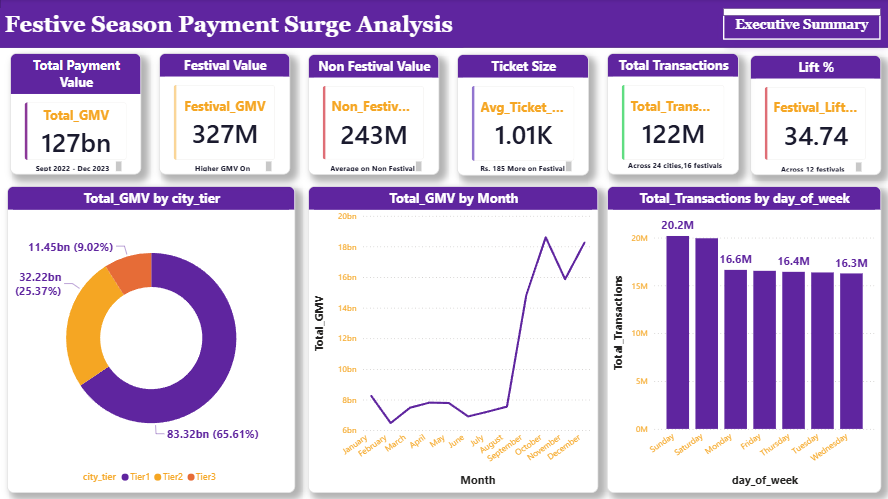

This screenshot's page, from the dashboard's own definition file:
{"tool":"powerbi","page":{"name":"Executive Summary","canvas":[1280,720],"ordinal":0},"visuals":[{"type":"group","id":"g1","title":"Group 1","box":[0,0,1280,70],"z":0},{"type":"shape","box":[0,0,1280,70],"z":0,"group":"g1"},{"type":"shape","box":[1041.1,13,227.5,11.5],"z":1000},{"type":"textbox","box":[0,13.2,667.1,56.6],"z":1000,"group":"g1"},{"type":"textbox","box":[1041.7,18.3,226.7,40],"z":2000,"group":"g1"},{"type":"cardVisual","title":"Lift %","fields":{"Data":["phonepe payments.Festival_Lift %"]},"box":[1080,80.6,188.6,172.8],"z":2000},{"type":"group","id":"g2","title":"Group 2","box":[14.4,78.3,1049.8,177.1],"z":3000,"group":"g3"},{"type":"cardVisual","title":"Non Festival Value","fields":{"Data":["phonepe payments.Non_Festival_GMV"]},"box":[443.8,80.1,188.9,173.5],"z":3000,"group":"g2"},{"type":"donutChart","fields":{"Category":["phonepe payments.city_tier"],"Y":["phonepe payments.Total_GMV"]},"box":[9.6,269.2,415.4,442.3],"z":3000},{"type":"cardVisual","title":"Festival Value","fields":{"Data":["phonepe payments.Festival_GMV"]},"box":[229.3,78.3,188.9,175.3],"z":4000,"group":"g2"},{"type":"textbox","box":[889.2,151.4,140.7,23.6],"z":4000},{"type":"textbox","box":[686.5,229.7,140.7,23.6],"z":4000,"group":"g3"},{"type":"cardVisual","title":"Total Payment Value","fields":{"Data":["phonepe payments.Total_GMV"]},"box":[14.4,78.5,189.4,175.4],"z":5000,"group":"g2"},{"type":"textbox","box":[881.9,225.8,181.7,28.8],"z":5000,"group":"g3"},{"type":"textbox","box":[1104.5,230.4,141.1,23],"z":5000},{"type":"group","id":"g3","title":"Group 3","box":[14.4,78.3,1049.8,177.1],"z":6000},{"type":"cardVisual","title":"Total Transactions","fields":{"Data":["phonepe payments.Total_Transactions"]},"box":[874,78.3,190.2,175.3],"z":6000,"group":"g2"},{"type":"textbox","box":[470.7,229.7,140.7,23.6],"z":6000,"group":"g3"},{"type":"cardVisual","title":"Ticket Size","fields":{"Data":["phonepe payments.Avg_Ticket_Size"]},"box":[658.3,80.1,190.2,175.3],"z":7000,"group":"g2"},{"type":"textbox","box":[254.9,229.7,140.7,23.6],"z":7000,"group":"g3"},{"type":"lineChart","fields":{"Category":["phonepe payments.date.Variation.Date Hierarchy.Month"],"Y":["phonepe payments.Total_GMV"]},"box":[443.5,268.8,418.3,441.8],"z":7000},{"type":"textbox","box":[39,229.7,140.7,23.6],"z":8000,"group":"g3"},{"type":"clusteredColumnChart","fields":{"Category":["phonepe payments.day_of_week"],"Y":["phonepe payments.Total_Transactions"]},"box":[873.5,268.8,394.8,441.8],"z":8000}]}

Visuals, with their boxes in screenshot pixels (x1, y1, x2, y2), scaled from the page's 1280x720 canvas onto the 888x499 screenshot:
"Group 1" group: rect(0, 0, 887, 49)
shape: rect(0, 0, 887, 49)
shape: rect(722, 9, 880, 17)
textbox: rect(0, 9, 463, 48)
textbox: rect(723, 13, 880, 40)
"Lift %" cardVisual: rect(749, 56, 880, 176)
"Group 2" group: rect(10, 54, 738, 177)
"Non Festival Value" cardVisual: rect(308, 56, 439, 176)
donutChart - phonepe payments.city_tier x phonepe payments.Total_GMV: rect(7, 187, 295, 493)
"Festival Value" cardVisual: rect(159, 54, 290, 176)
textbox: rect(617, 105, 714, 121)
textbox: rect(476, 159, 574, 176)
"Total Payment Value" cardVisual: rect(10, 54, 141, 176)
textbox: rect(612, 156, 738, 176)
textbox: rect(766, 160, 864, 176)
"Group 3" group: rect(10, 54, 738, 177)
"Total Transactions" cardVisual: rect(606, 54, 738, 176)
textbox: rect(327, 159, 424, 176)
"Ticket Size" cardVisual: rect(457, 56, 589, 177)
textbox: rect(177, 159, 274, 176)
lineChart - phonepe payments.date.Variation.Date Hierarchy.Month x phonepe payments.Total_GMV: rect(308, 186, 598, 492)
textbox: rect(27, 159, 125, 176)
clusteredColumnChart - phonepe payments.day_of_week x phonepe payments.Total_Transactions: rect(606, 186, 880, 492)
